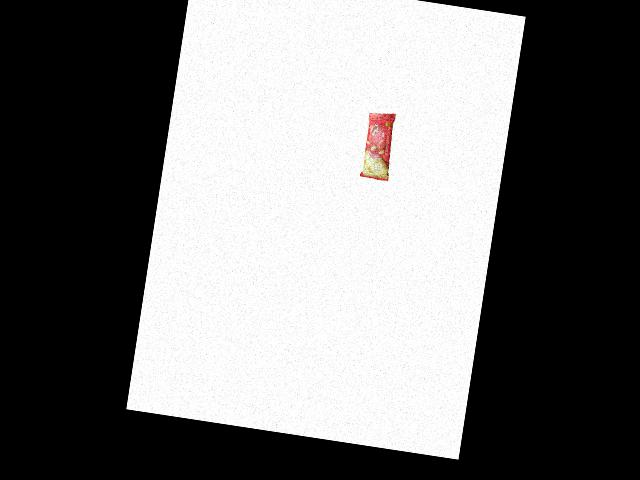chocolate: (357, 105, 403, 182)
